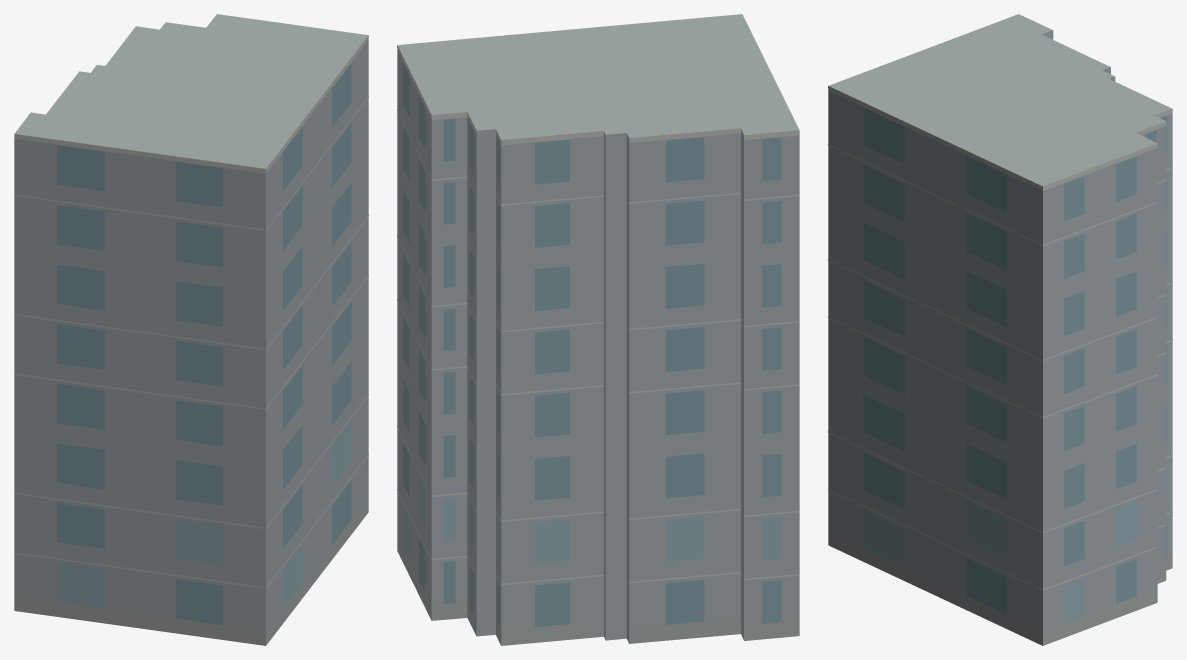
Rendered from survey-upis-32989353.glb.
3 views of the same model, side by side, from view 1: azimuth 30°, elevation 25°; view 2: azimuth 150°, elevation 25°; view 3: azimuth 270°, elevation 25° (orthographic). The views are drawn at different scales.
Visible parts, largest first — view 1: survey-upis-32989353.tmp; view 2: survey-upis-32989353.tmp; view 3: survey-upis-32989353.tmp.
Boxes of the visible parts, bbox=[...] form: survey-upis-32989353.tmp: bbox=[14, 14, 368, 645]; survey-upis-32989353.tmp: bbox=[397, 14, 799, 645]; survey-upis-32989353.tmp: bbox=[828, 14, 1172, 645].
Size of the model in its own units: 19.5 by 24.2 by 16.46.
